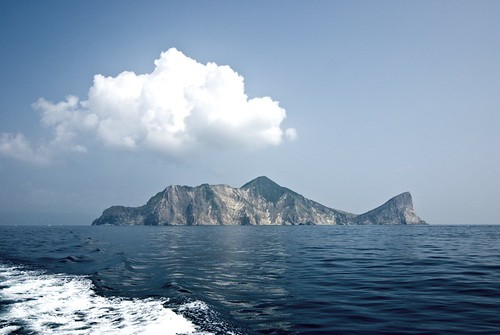turtleIsland: (90, 175, 432, 225)
